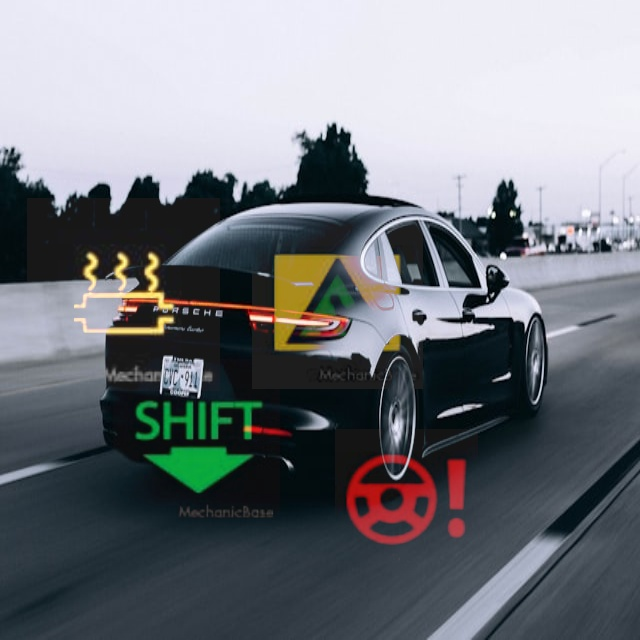symbol: (27, 198, 220, 391), (252, 218, 423, 389), (113, 359, 280, 526), (335, 429, 478, 572)
